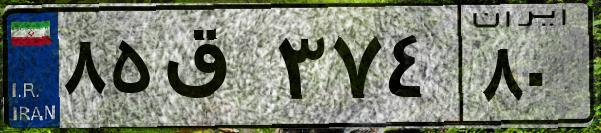0: (525, 38, 570, 115)
3: (270, 28, 330, 110)
4: (385, 28, 445, 110)
5: (110, 28, 158, 98)
7: (330, 28, 385, 110)
8: (57, 26, 110, 100), (475, 38, 525, 113)
ق: (158, 20, 270, 120)
